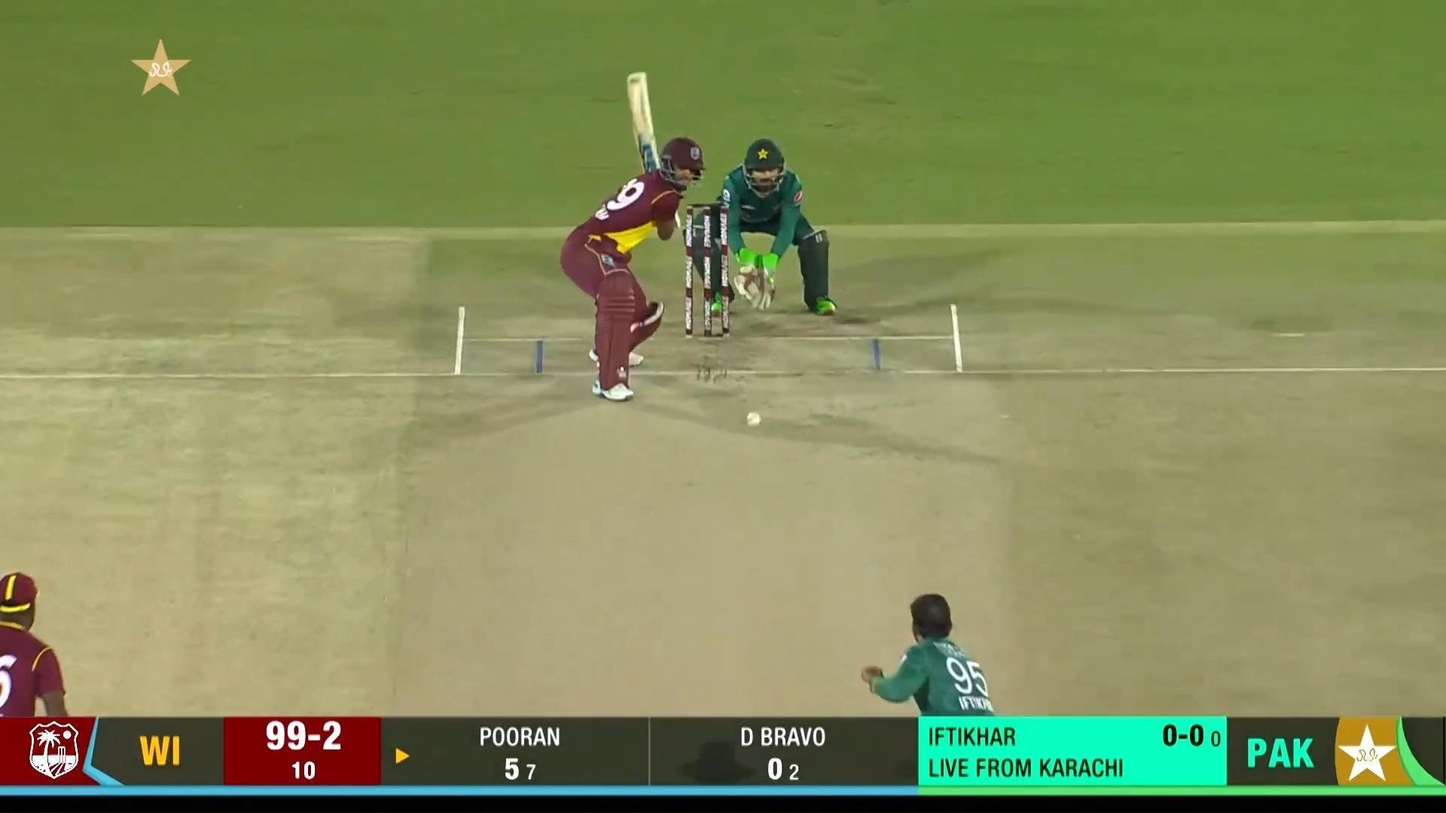BM 1: (561, 68, 706, 402)
BO: (861, 593, 995, 717)
